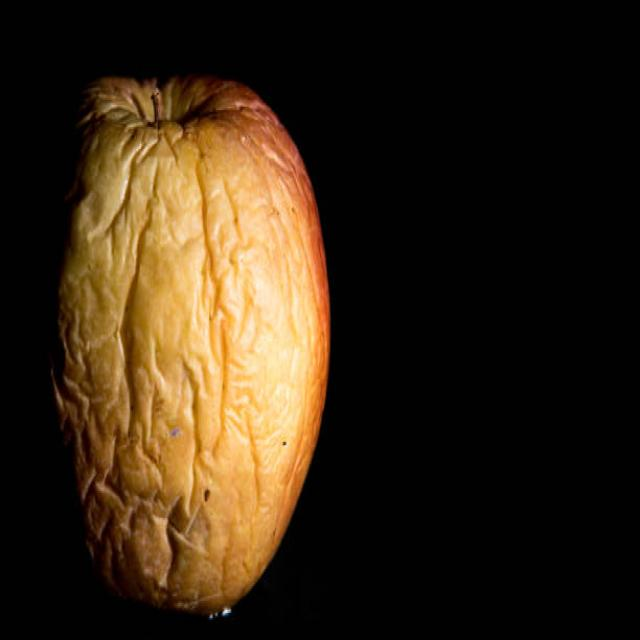overripe: (44, 64, 336, 621)
